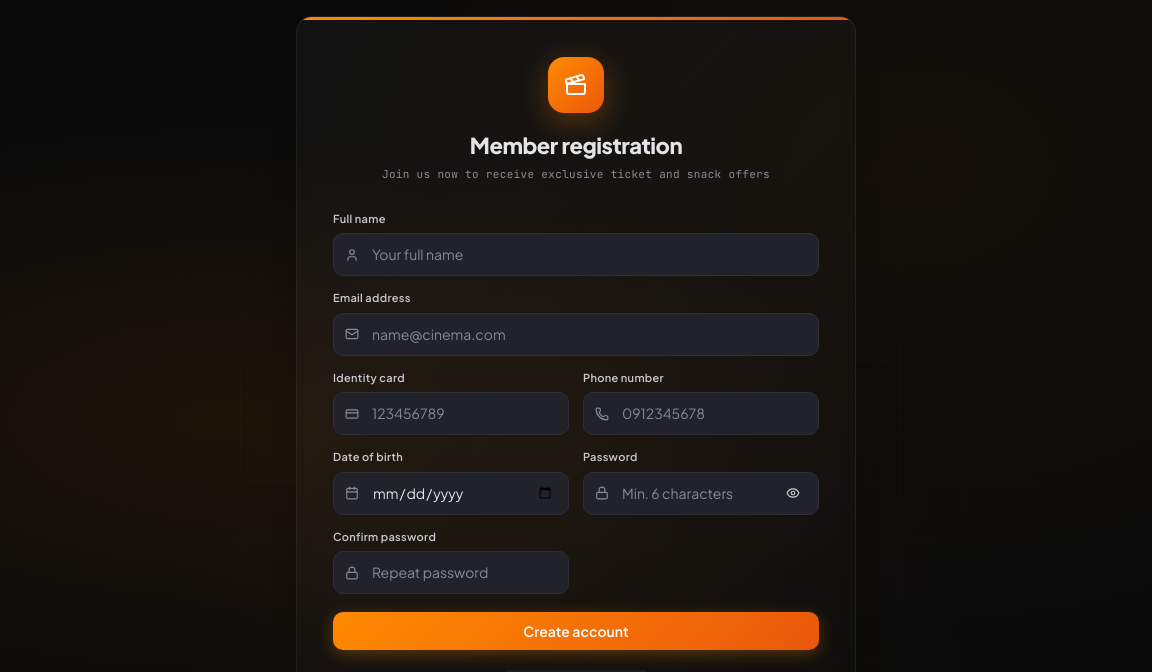
RegisterForm › shows error on duplicate email
Type "Test User" into the field with placeholder "Your full name" at (576, 254), box left=333, top=233, right=819, bottom=276
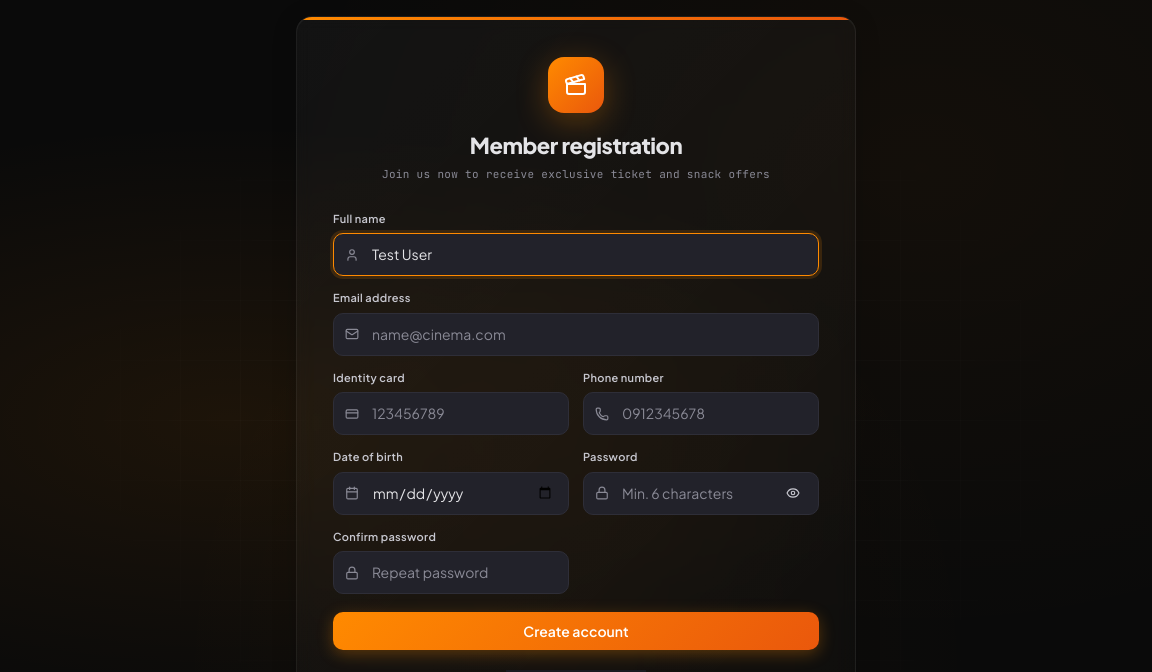
Type "existing@test.com" into the field with placeholder "name@cinema.com" at (576, 334), box left=333, top=312, right=819, bottom=356
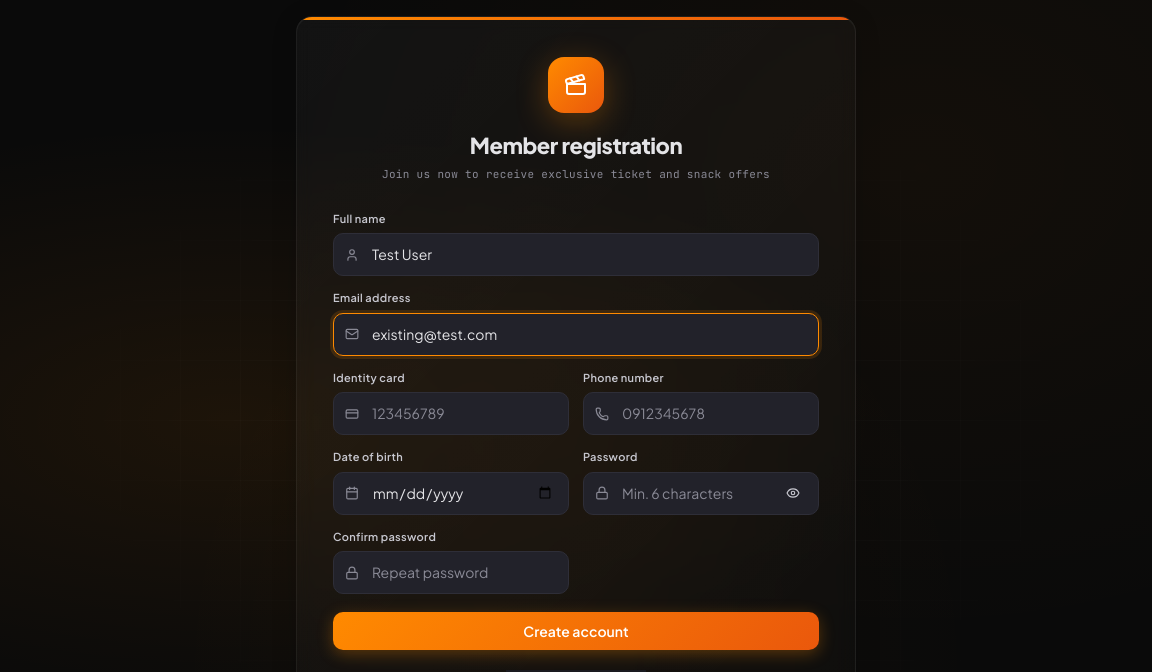
Type "P@ssword123!" into the password field with placeholder "Min. 6 characters" at (701, 493), box left=583, top=472, right=819, bottom=514
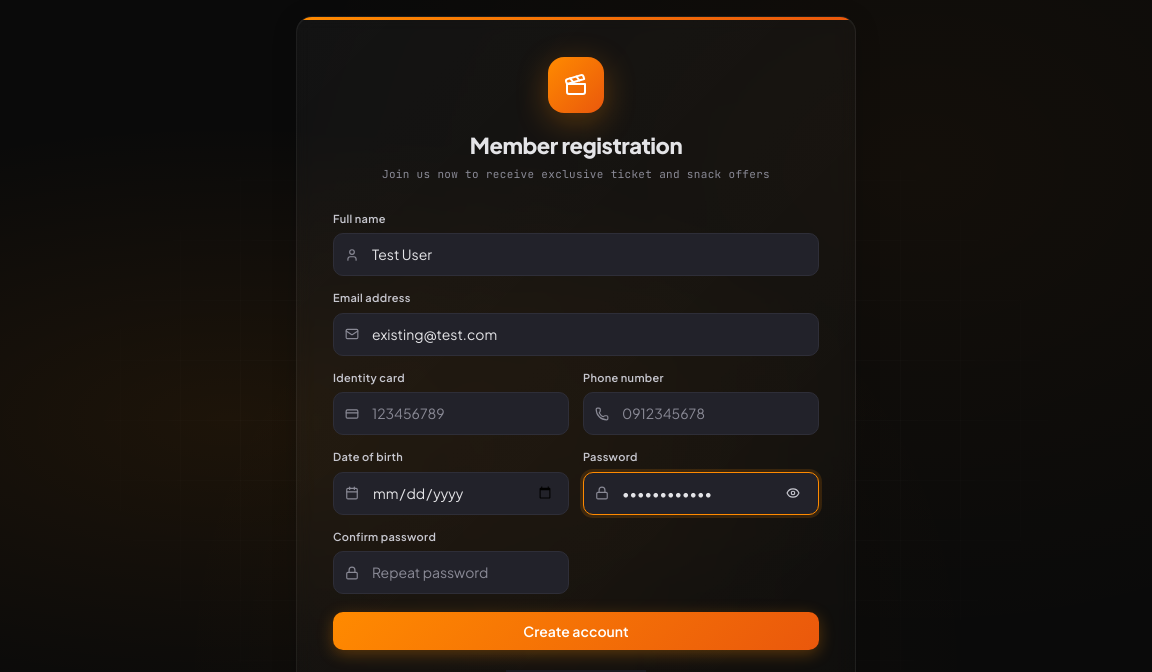
Type "P@ssword123!" into the password field with placeholder "Repeat password" at (451, 572), box left=333, top=551, right=569, bottom=594
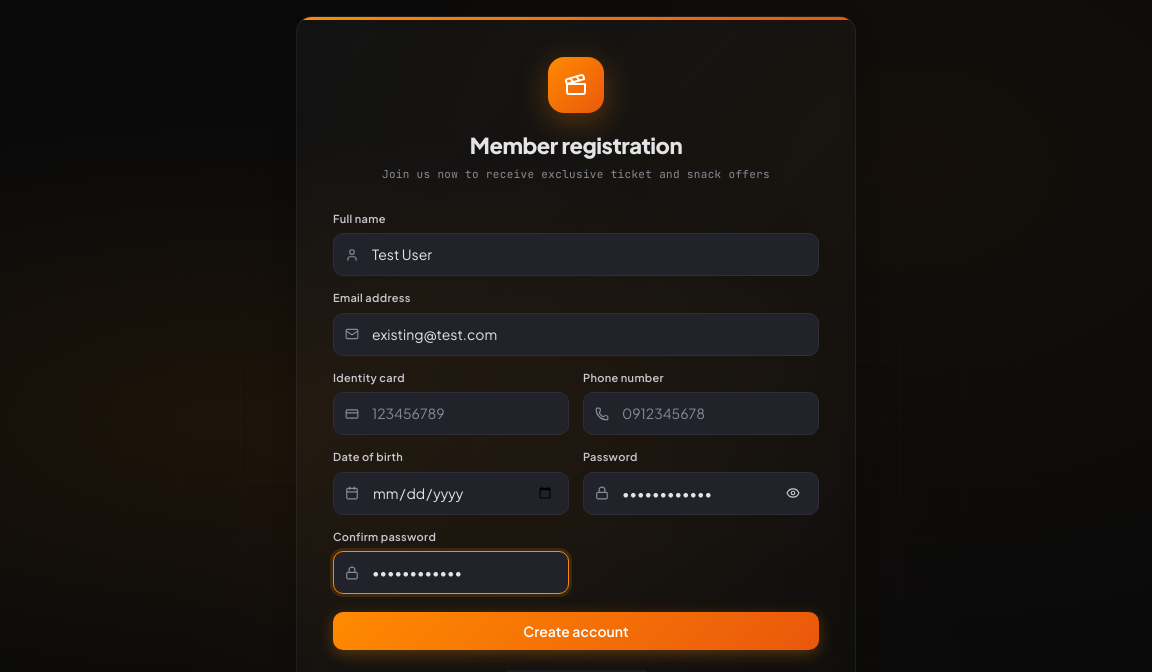
Click the button "Create account" at (576, 631), box left=333, top=612, right=819, bottom=650
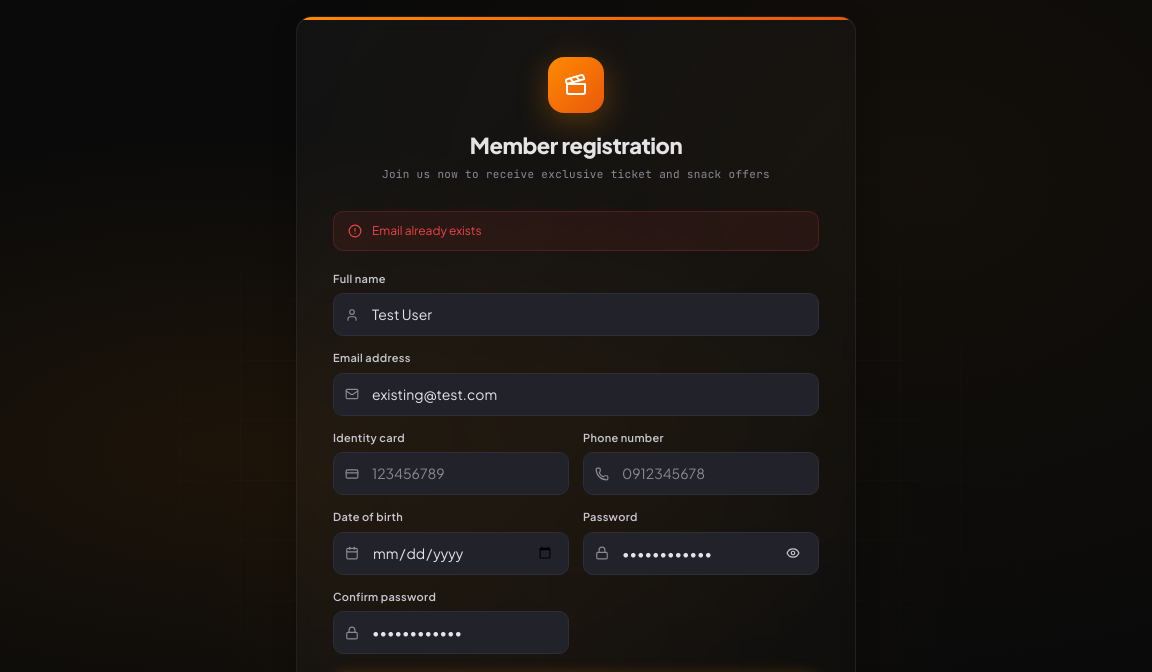
Result: the text "Email already exists" is shown at left=372, top=222, right=482, bottom=240
